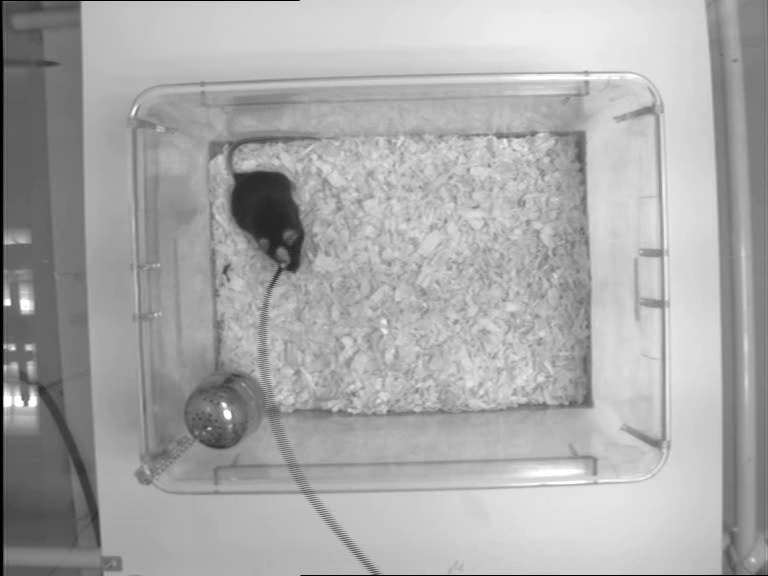mice: (220, 132, 324, 279)
